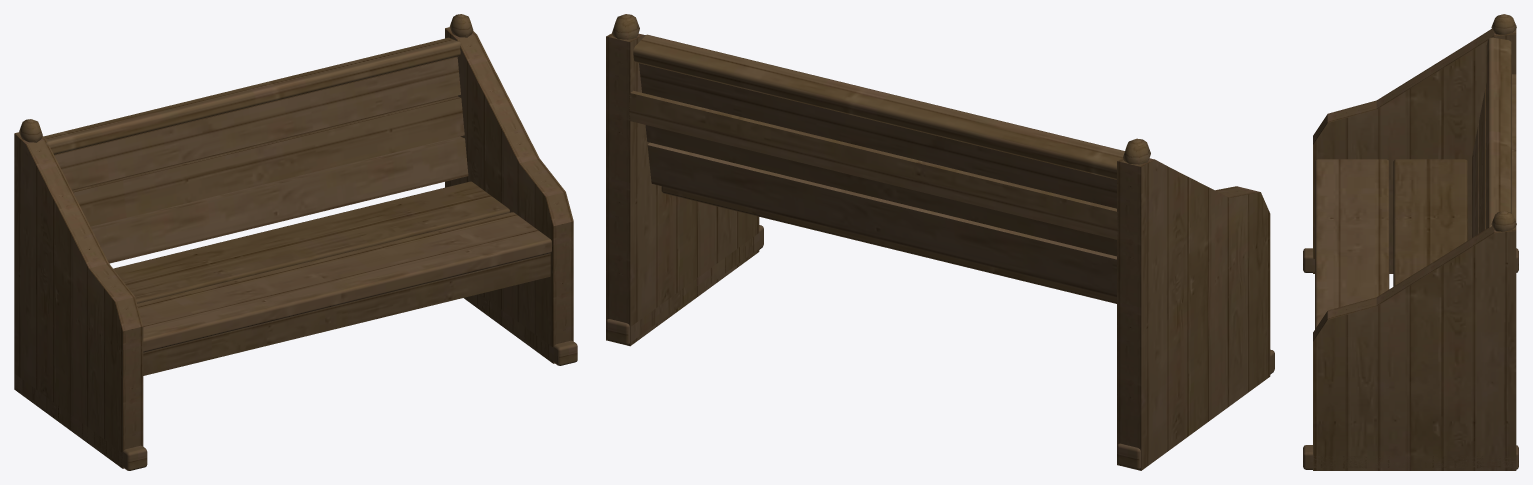
File: prop_pew.glb
The picture shows the model from 3 angles, left to right: view 1: azimuth 30°, elevation 25°; view 2: azimuth 150°, elevation 25°; view 3: azimuth 270°, elevation 25°; orthographic projection. The views are drawn at different scales.
Visible parts, largest first — view 1: prop; view 2: prop; view 3: prop.
Boxes of the visible parts, x1=… form: prop: x1=14, y1=14, x2=577, y2=470; prop: x1=606, y1=14, x2=1274, y2=470; prop: x1=1303, y1=14, x2=1518, y2=470.
Size of the model in its own units: 0.995 by 0.575 by 0.44.
1 material, 1 textured.
